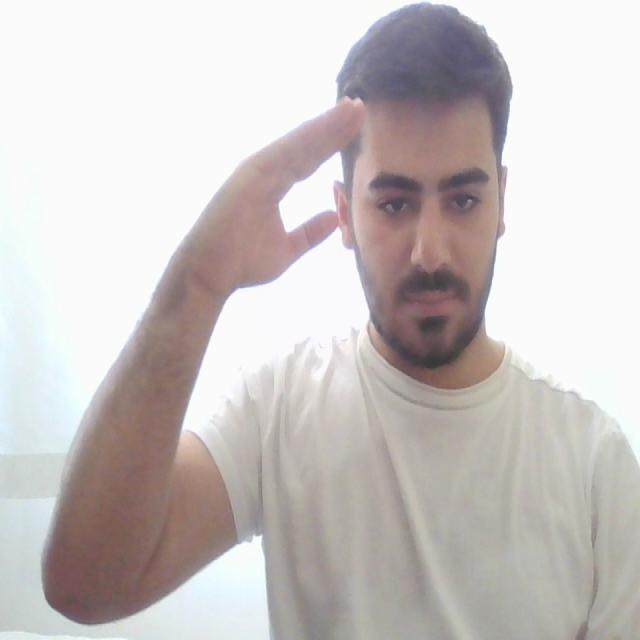Merhaba: (187, 76, 389, 334)
